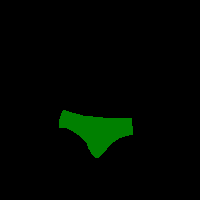mutande: (59, 109, 133, 158)
